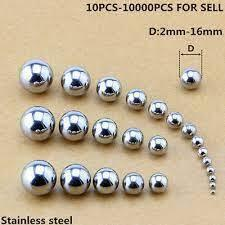steelball: (20, 156, 57, 201), (60, 61, 97, 102), (21, 53, 54, 96), (18, 102, 55, 140), (60, 160, 94, 199), (58, 108, 91, 143), (119, 125, 152, 157), (99, 163, 124, 197), (94, 115, 121, 146), (145, 170, 173, 199), (100, 75, 129, 103), (148, 93, 173, 124), (180, 63, 208, 89), (145, 129, 171, 156), (122, 85, 151, 109), (118, 171, 145, 192)
